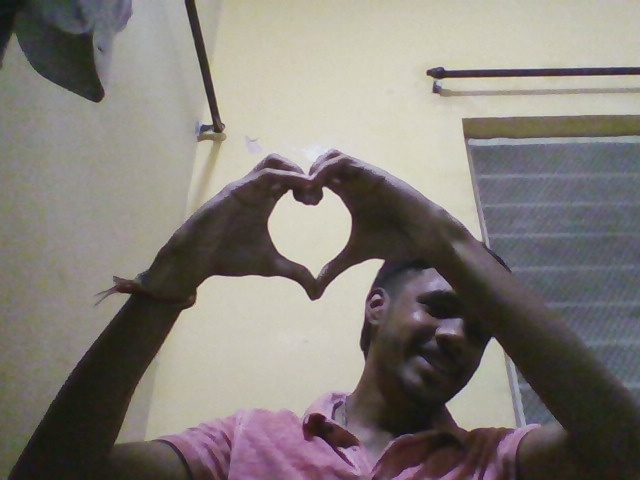iloveyou: (142, 108, 456, 308)
